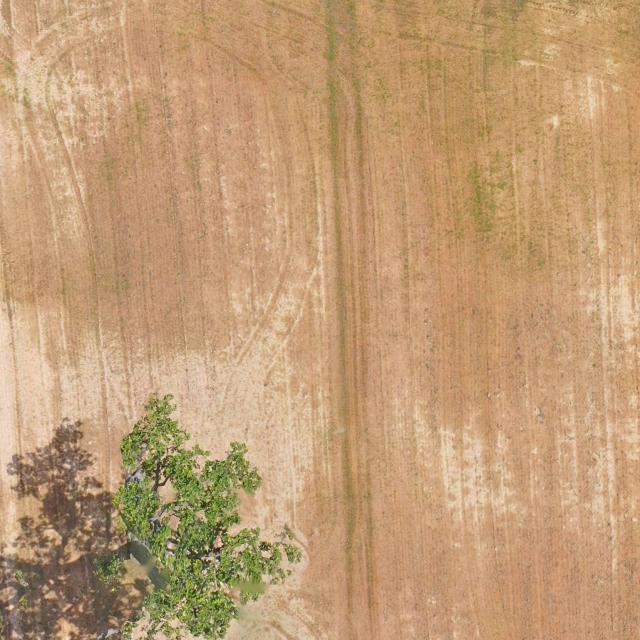Tree: (0, 387, 305, 640)
